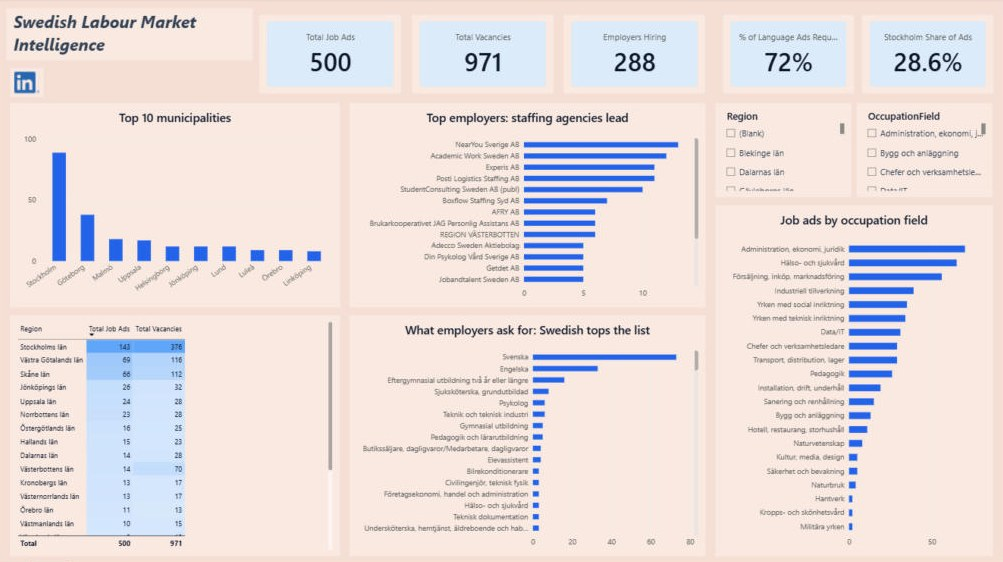

The dashboard page shown, as its layout file describes it:
{"tool":"powerbi","page":{"name":"Page 1","canvas":[1920,1080],"ordinal":0},"visuals":[{"type":"textbox","box":[16,20,470,100],"z":0},{"type":"cardVisual","fields":{"Data":["FactJobAds.Total Job Ads"]},"box":[500,32,270,150],"z":1000},{"type":"cardVisual","fields":{"Data":["FactJobAds.Total_Vacancies"]},"box":[790,32,270,150],"z":2000},{"type":"cardVisual","fields":{"Data":["FactJobAds.Employers_Hiring"]},"box":[1080,32,270,150],"z":3000},{"type":"tableEx","title":"Job ads by region","fields":{"Values":["DimLocation.Region","FactJobAds.Total Job Ads","FactJobAds.Total Vacancies"]},"box":[24,606,630,460],"z":4000},{"type":"clusteredColumnChart","title":"Top 10 municipalities","fields":{"Category":["DimLocation.Municipality"],"Y":["FactJobAds.Total Job Ads"]},"box":[24,200,630,390],"z":5000},{"type":"clusteredBarChart","title":"Top employers: staffing agencies lead","fields":{"Category":["DimEmployer.EmployerName"],"Y":["FactJobAds.Total Job Ads"]},"box":[672,200,680,390],"z":6000},{"type":"cardVisual","fields":{"Data":["Requirements.% of Language Ads Requiring Swedish"]},"box":[1385,32,250,150],"z":7000},{"type":"clusteredBarChart","title":"Job ads by occupation field","fields":{"Category":["DimOccupation.OccupationField"],"Y":["FactJobAds.Total Job Ads"]},"box":[1370,396,530,670],"z":8000},{"type":"clusteredBarChart","title":"What employers ask for: Swedish tops the list","fields":{"Category":["FactJobRequirements.RequirementLabel"],"Y":["FactJobRequirements.Ads Mentioning"]},"box":[672,606,680,460],"z":9000},{"type":"cardVisual","fields":{"Data":["FactJobAds.Stockholm Share of Ads"]},"box":[1650,32,250,150],"z":10000},{"type":"slicer","fields":{"Values":["DimLocation.Region"]},"box":[1370,200,260,180],"z":12000},{"type":"slicer","fields":{"Values":["DimOccupation.OccupationField"]},"box":[1640,200,260,180],"z":13000},{"type":"actionButton","box":[24,134,64,56],"z":13001}]}

Visuals, with their boxes in screenshot pixels (x1, y1, x2, y2), scaled from the page's 1920x1080 canvas onto the 1003x562 screenshot:
textbox: (x1=8, y1=10, x2=254, y2=62)
cardVisual - FactJobAds.Total Job Ads: (x1=261, y1=17, x2=402, y2=95)
cardVisual - FactJobAds.Total_Vacancies: (x1=413, y1=17, x2=554, y2=95)
cardVisual - FactJobAds.Employers_Hiring: (x1=564, y1=17, x2=705, y2=95)
"Job ads by region" tableEx: (x1=13, y1=315, x2=342, y2=555)
"Top 10 municipalities" clusteredColumnChart: (x1=13, y1=104, x2=342, y2=307)
"Top employers: staffing agencies lead" clusteredBarChart: (x1=351, y1=104, x2=706, y2=307)
cardVisual - Requirements.% of Language Ads Requiring Swedish: (x1=724, y1=17, x2=854, y2=95)
"Job ads by occupation field" clusteredBarChart: (x1=716, y1=206, x2=993, y2=555)
"What employers ask for: Swedish tops the list" clusteredBarChart: (x1=351, y1=315, x2=706, y2=555)
cardVisual - FactJobAds.Stockholm Share of Ads: (x1=862, y1=17, x2=993, y2=95)
slicer - DimLocation.Region: (x1=716, y1=104, x2=852, y2=198)
slicer - DimOccupation.OccupationField: (x1=857, y1=104, x2=993, y2=198)
actionButton: (x1=13, y1=70, x2=46, y2=99)
